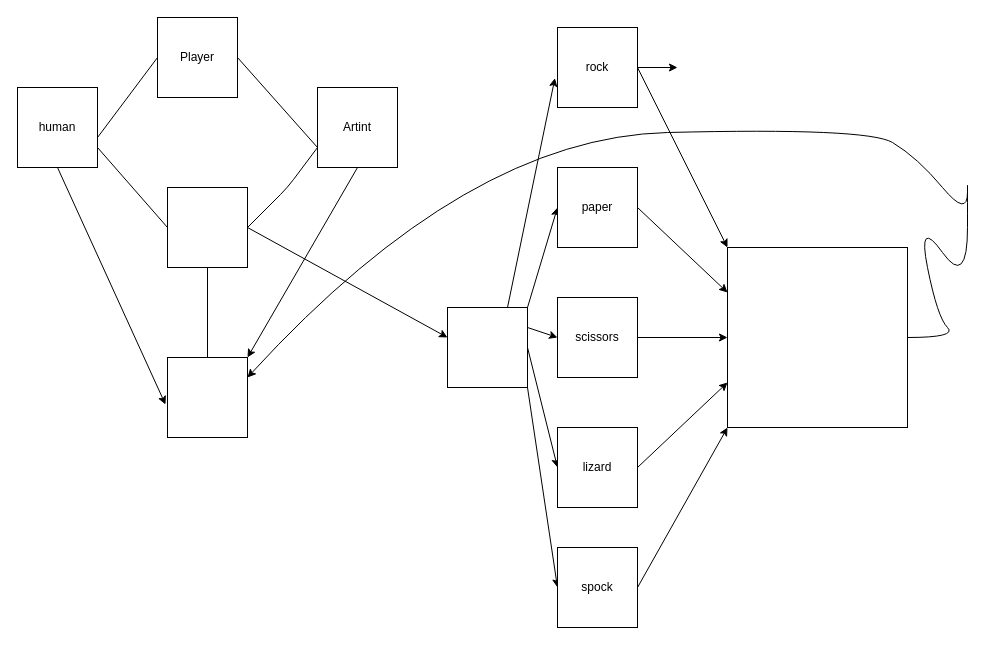
The diagram is 985 pixels wide and 645 high, and some of its shapes have lost their labels. Here are the shapes that lost their labels. From the top down, the centre of each, then its label:
At (x=207, y=227): "gesture".
At (x=487, y=347): "Gestures".
At (x=817, y=337): "win lose draw".
At (x=207, y=397): "game".
